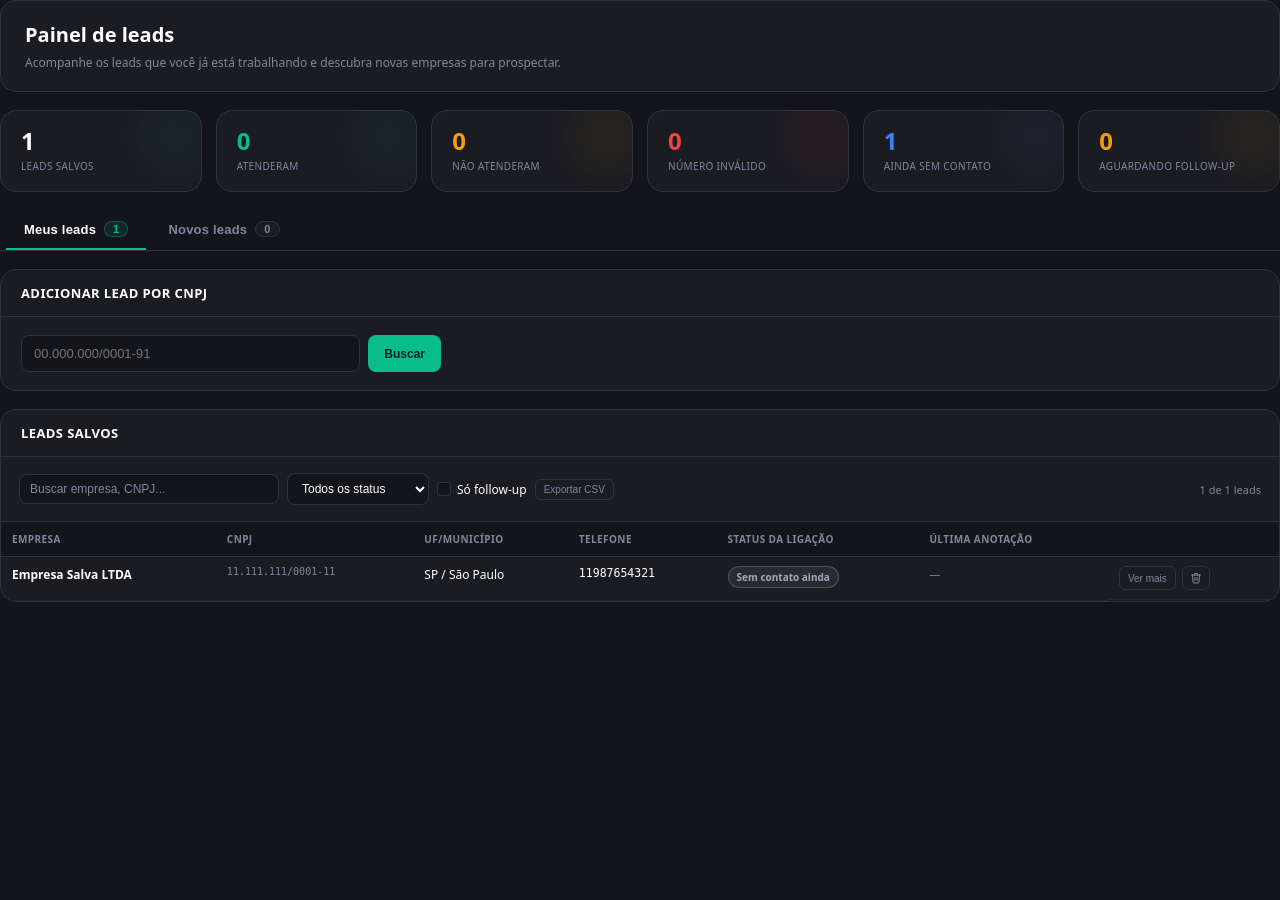
Scenario: LeadsPage › salvar registro de ligação atualiza a lista de leads salvos com o retorno da API
Click the button "Ver mais".
click(1147, 578)  # box [1119,566,1176,590]
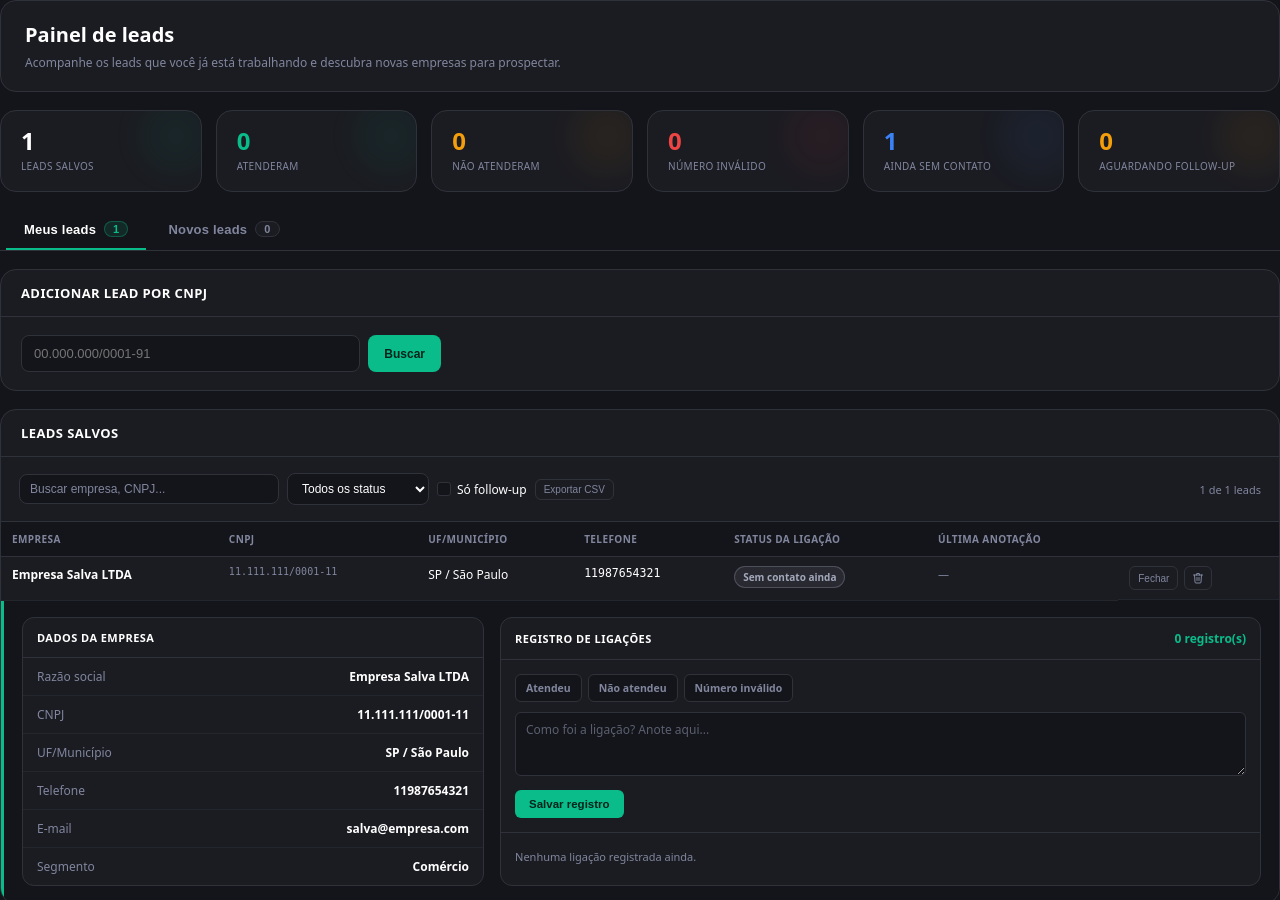
Click the text "Atendeu".
click(548, 688)  # box [515,674,582,702]
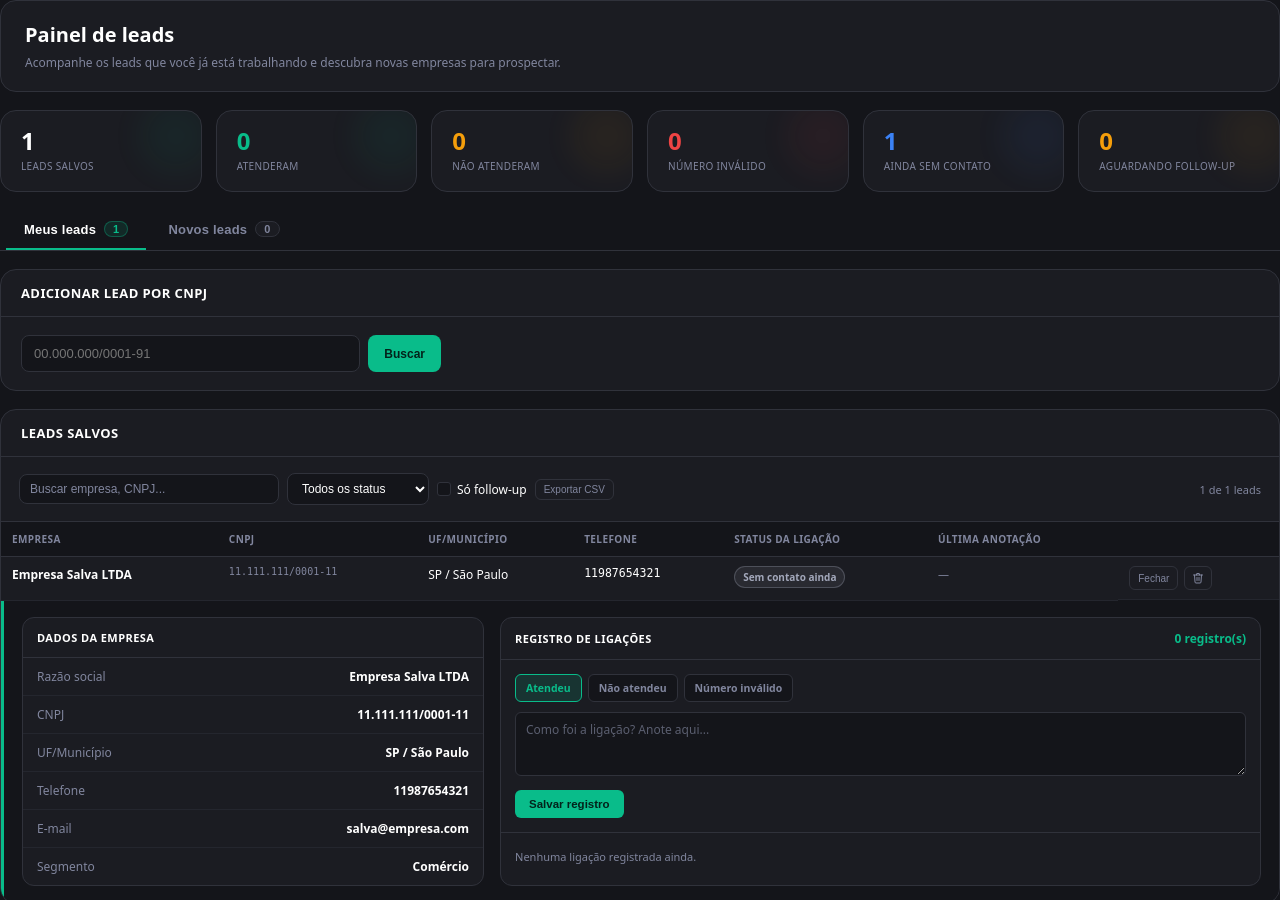
Type "Cliente interessado" into the text box with placeholder "Como foi a ligação? Anote aqui...".
click(880, 744); type("Cliente interessado")  # box [515,712,1246,776]
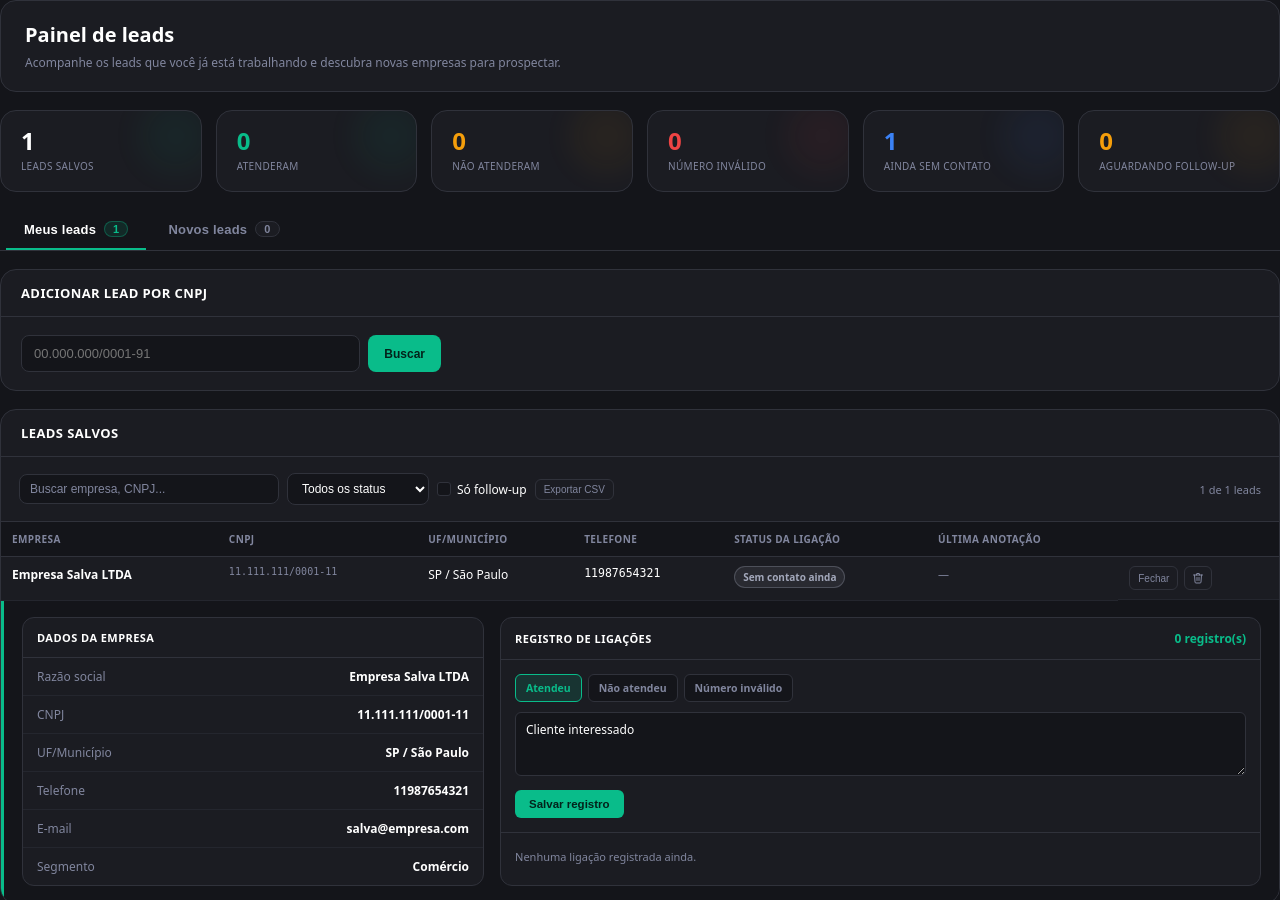
Click the button "Salvar registro".
click(569, 804)  # box [515,790,624,818]
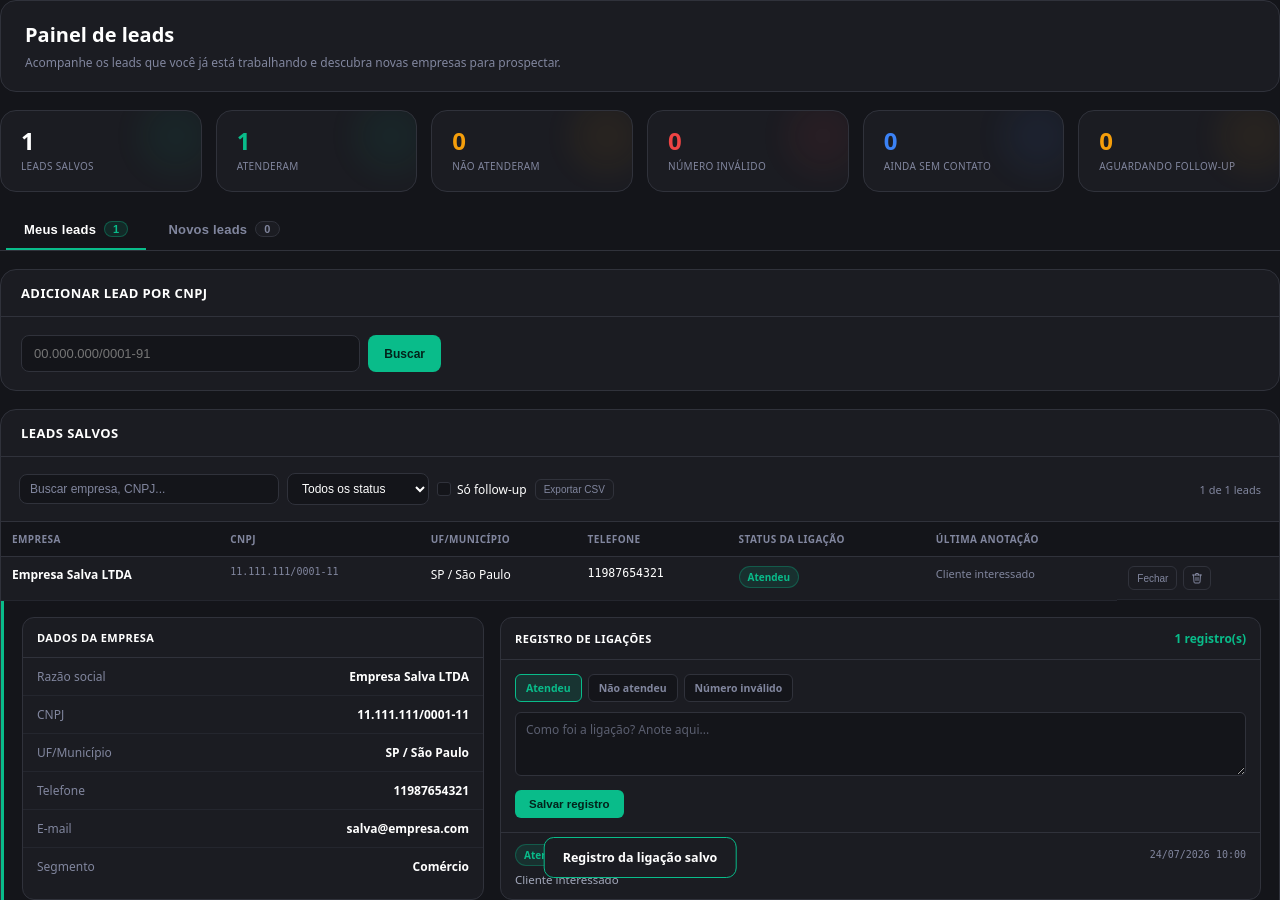
Result: the text "Cliente interessado" is shown at [925,557,1117,600]
